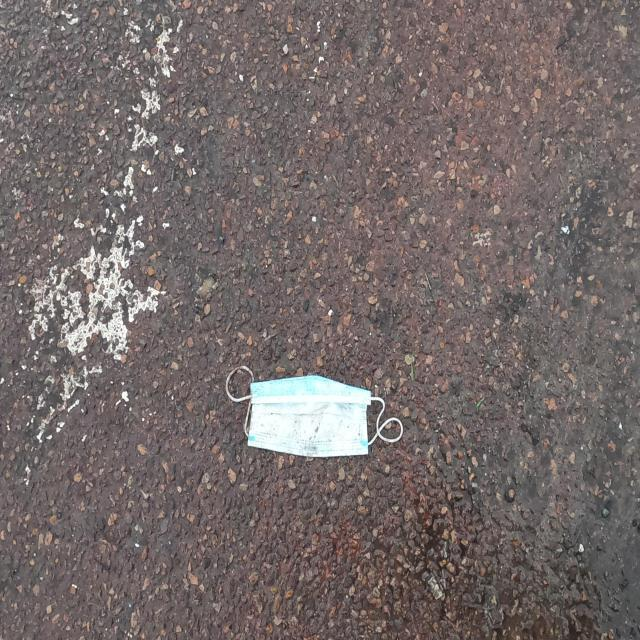Mask: (224, 364, 404, 459)
